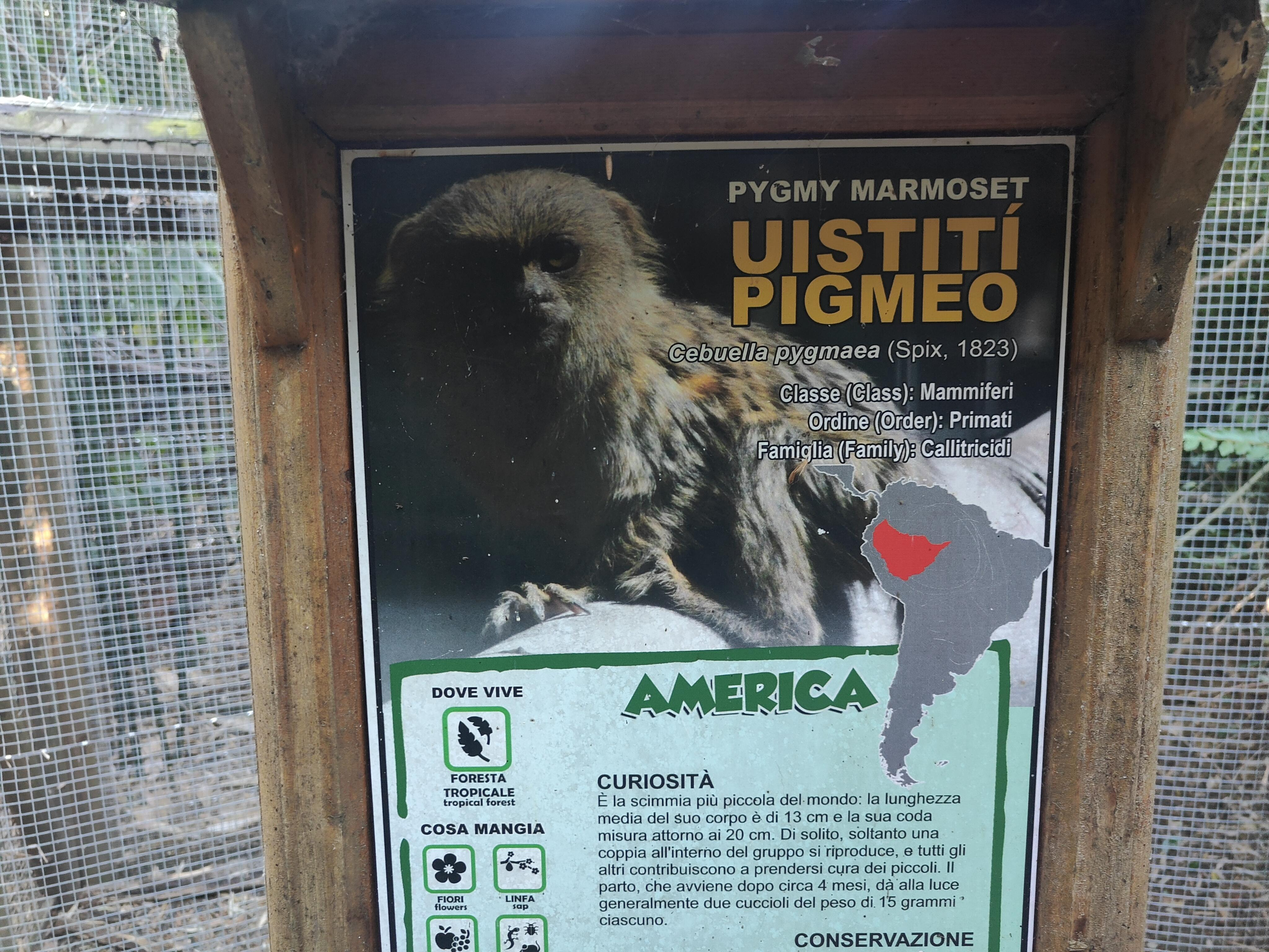boar: (369, 167, 927, 647)
